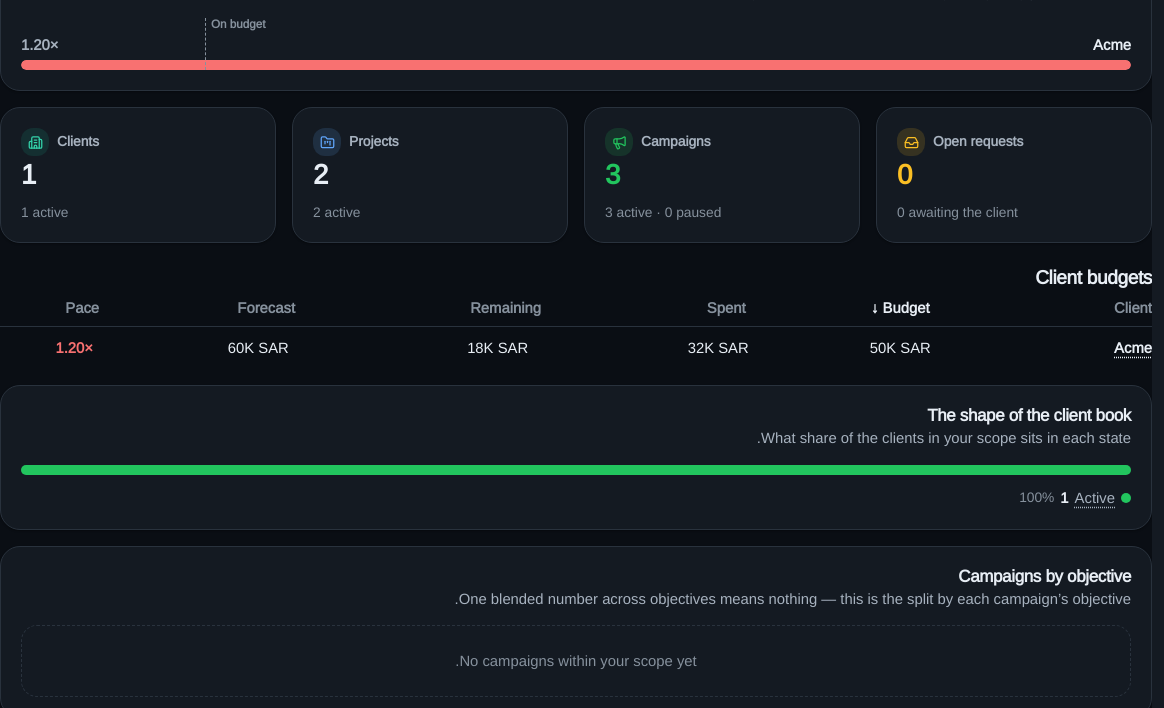
Test: the project rung under the client that raised the question › names the projects a client’s money is in
The width and height of the screenshot is (1164, 708).
(page scrolled)
Click the button "Acme".
click(1072, 348)  # box [991,337,1152,359]
(page scrolled)
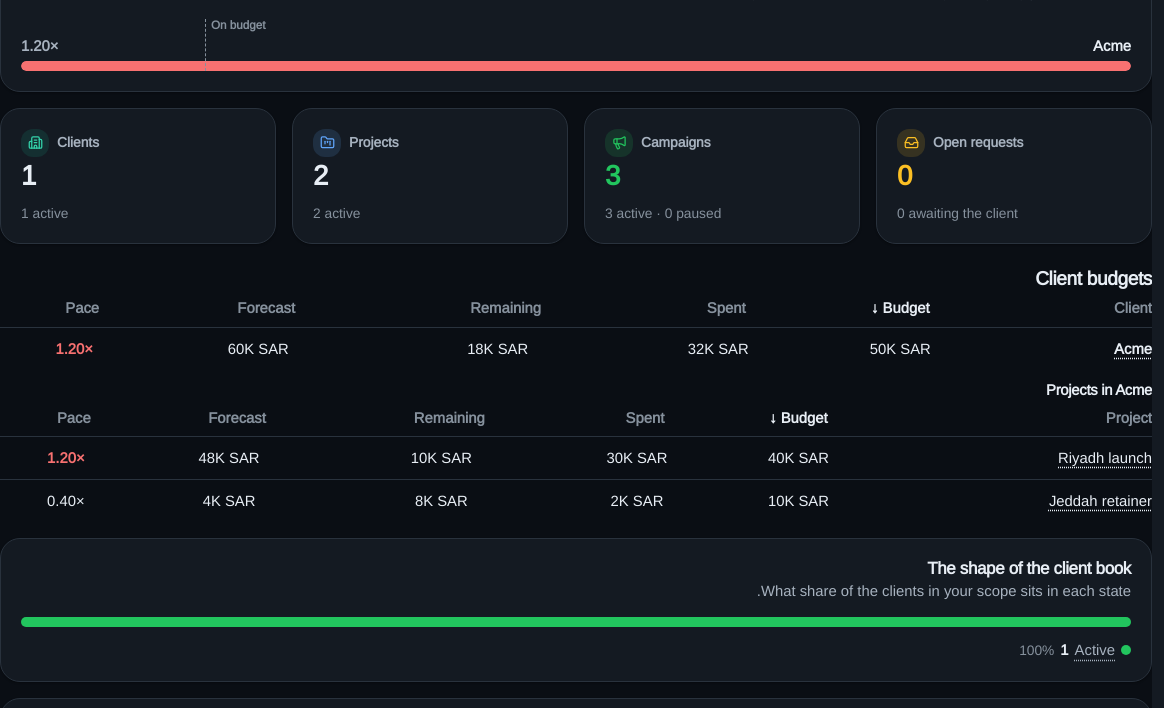
Now the element with test id "project-budgets" shows "Riyadh launch", box [879,447,1152,469]
Now the element with test id "project-budgets" shows "Jeddah retainer", box [879,490,1152,512]
